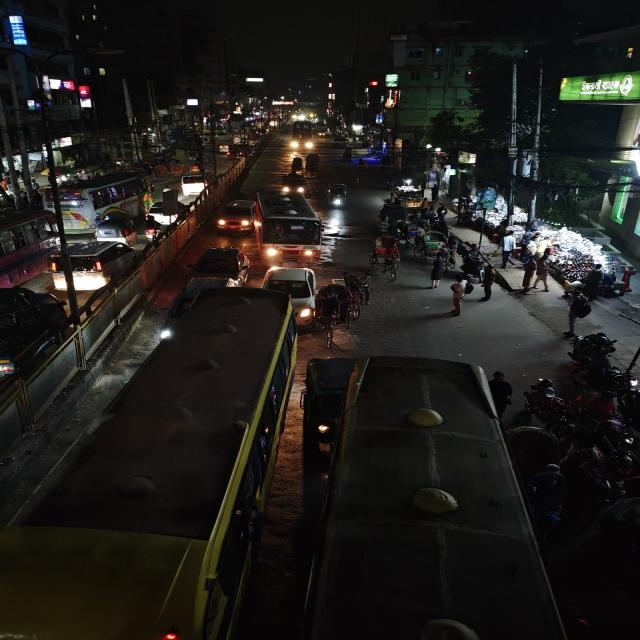bus: (58, 292, 304, 636), (317, 354, 554, 640), (45, 171, 152, 229), (0, 208, 60, 296), (257, 202, 328, 262), (288, 120, 315, 151)
car: (49, 238, 139, 292), (262, 264, 320, 326), (187, 245, 252, 282), (144, 198, 196, 236), (214, 198, 263, 235), (90, 213, 139, 240), (170, 172, 214, 198)
cng: (324, 183, 352, 211)
motorcycle: (570, 341, 640, 401), (526, 376, 584, 430)
pedestrian: (564, 291, 595, 329), (447, 278, 471, 314)
pickup_van: (0, 285, 72, 381), (275, 174, 313, 196)
rickshaw: (314, 279, 362, 345), (368, 233, 402, 281), (337, 269, 372, 302), (416, 226, 448, 262)
